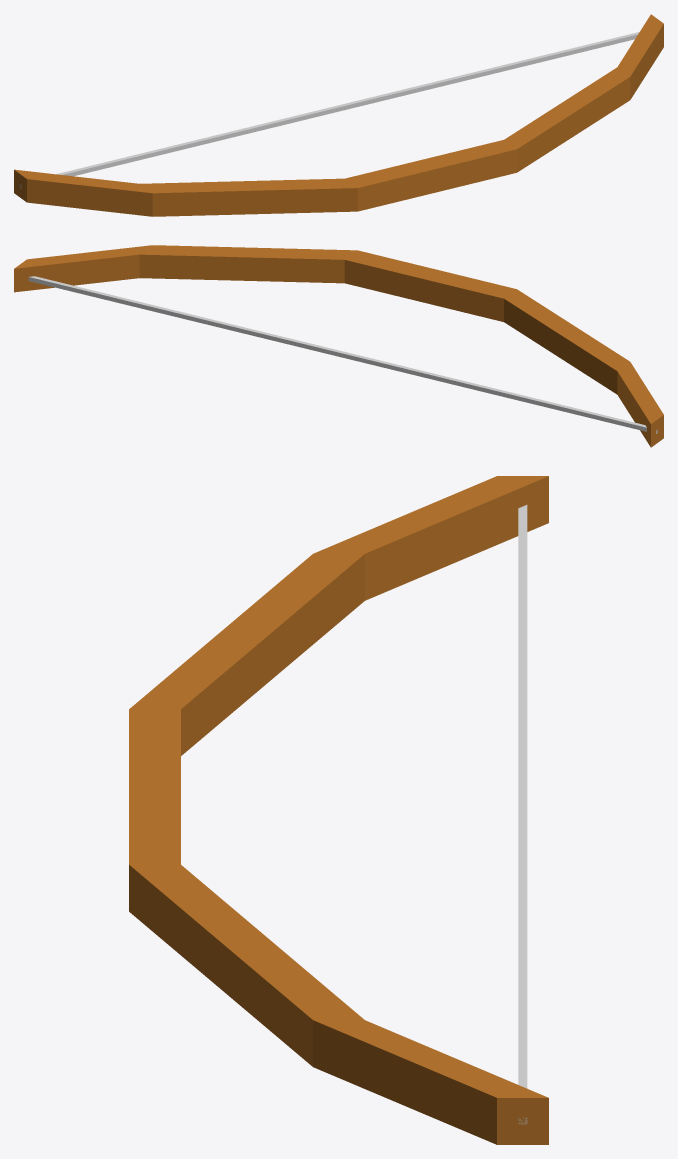
Rendered from BowBody.gltf.
3 views of the same model, one above another, from view 1: azimuth 30°, elevation 25°; view 2: azimuth 150°, elevation 25°; view 3: azimuth 270°, elevation 25° (orthographic). The views are drawn at different scales.
Visible parts, largest first — view 1: BowBody, String; view 2: BowBody, String; view 3: BowBody, String.
Boxes of the visible parts, box(x1,y1,x2,y2) form: BowBody: box(14, 14, 663, 216); String: box(19, 32, 639, 188); BowBody: box(14, 245, 663, 447); String: box(28, 276, 657, 433); BowBody: box(129, 476, 548, 1144); String: box(518, 505, 527, 1124).
Size of the model in its own units: 0.9997 by 0.0353 by 0.2852.
Materials: 2 (2 with a texture image).
